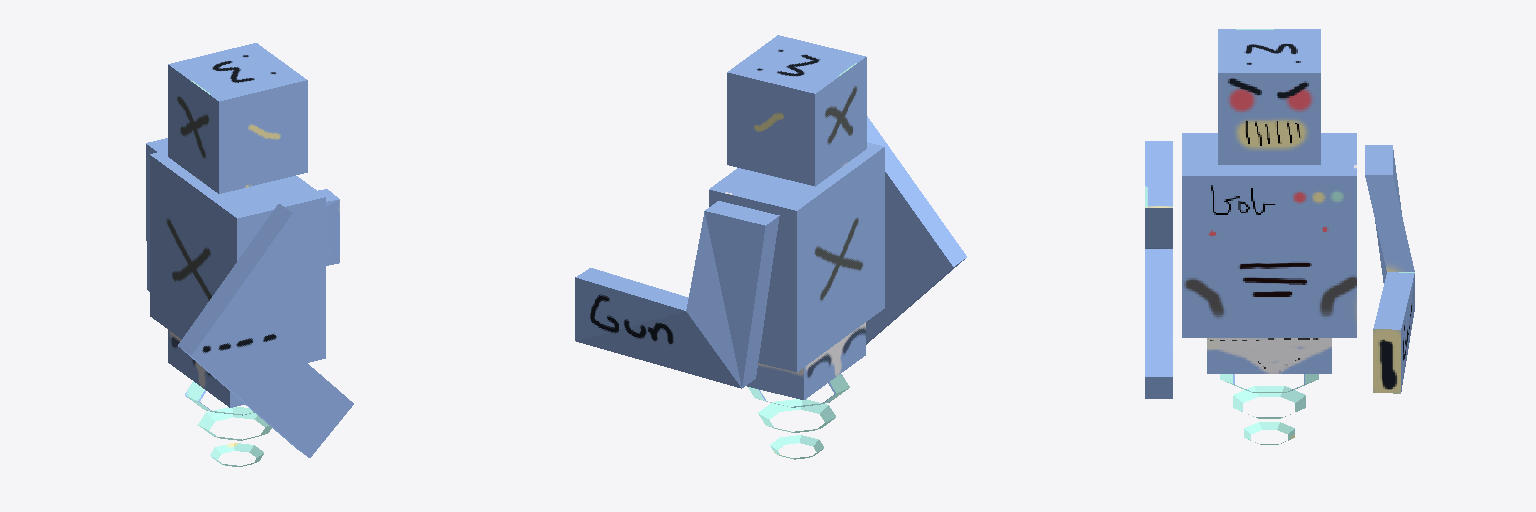
The picture shows the model from 3 angles: view 1: azimuth 30°, elevation 25°; view 2: azimuth 150°, elevation 25°; view 3: azimuth 270°, elevation 25°; orthographic projection.
Visible parts, largest first — view 1: Cube.001_Cube.003; view 2: Cube.001_Cube.003; view 3: Cube.001_Cube.003.
Boxes of the visible parts, <box> form: Cube.001_Cube.003: <box>146,43,353,466</box>; Cube.001_Cube.003: <box>575,35,966,459</box>; Cube.001_Cube.003: <box>1145,29,1414,444</box>.
Bounding box in the file's own units: 0.8949 × 1.25 × 0.7924.
1 materials, 1 textured.